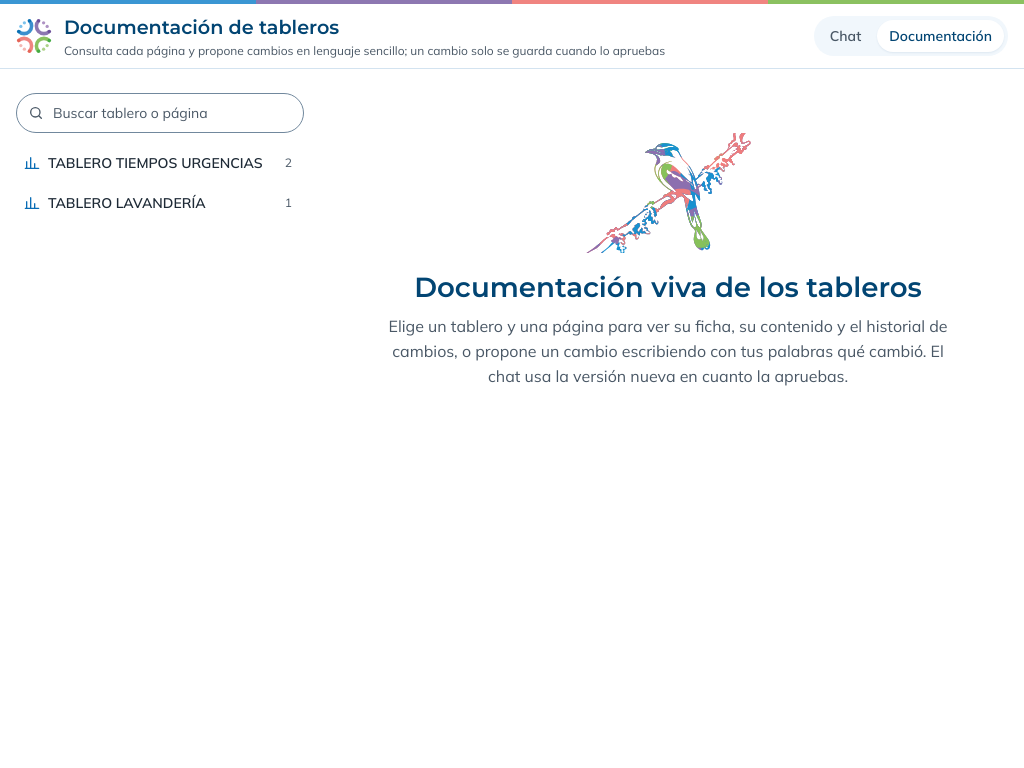
it: Documentación: explorar › muestra el documento: formato, ficha, cuerpo, historial y el .md guardado
What coordinates should you click on to do the following:
click the button "TABLERO TIEMPOS URGENCIAS 2"
I would click on:
 (158, 163)
Its box is [16,145,300,181].
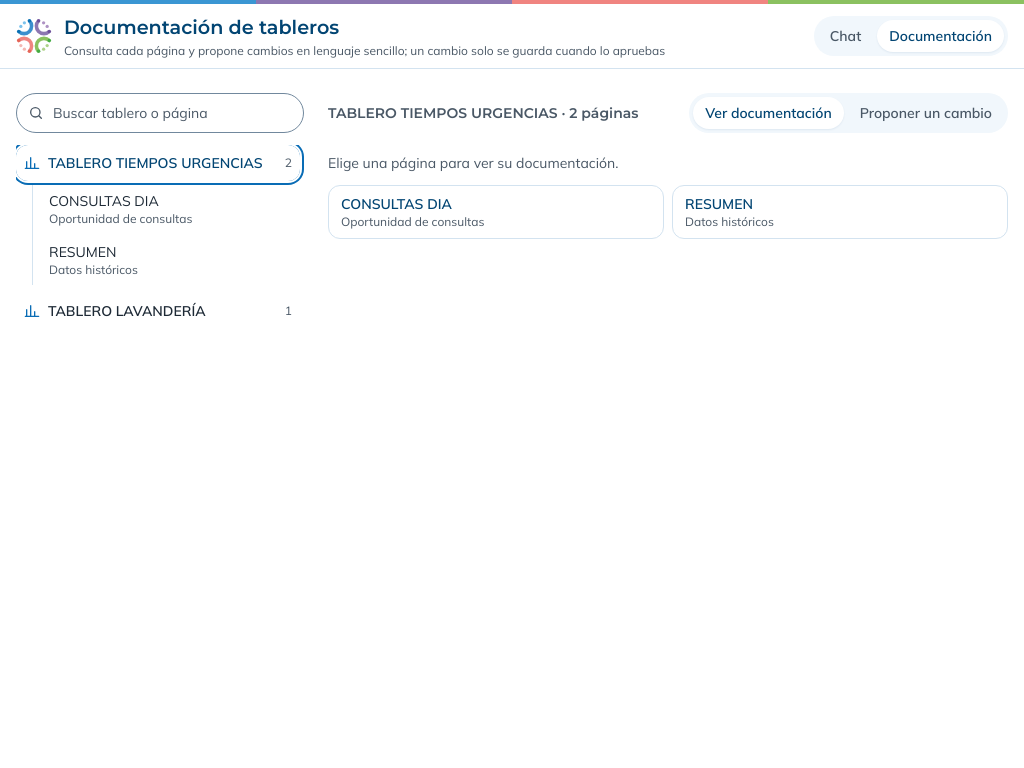
What coordinates should you click on to do the following:
click the 1st button "CONSULTAS DIA Oportunidad de consultas"
I would click on:
 (170, 209)
Its box is [41,185,300,233].
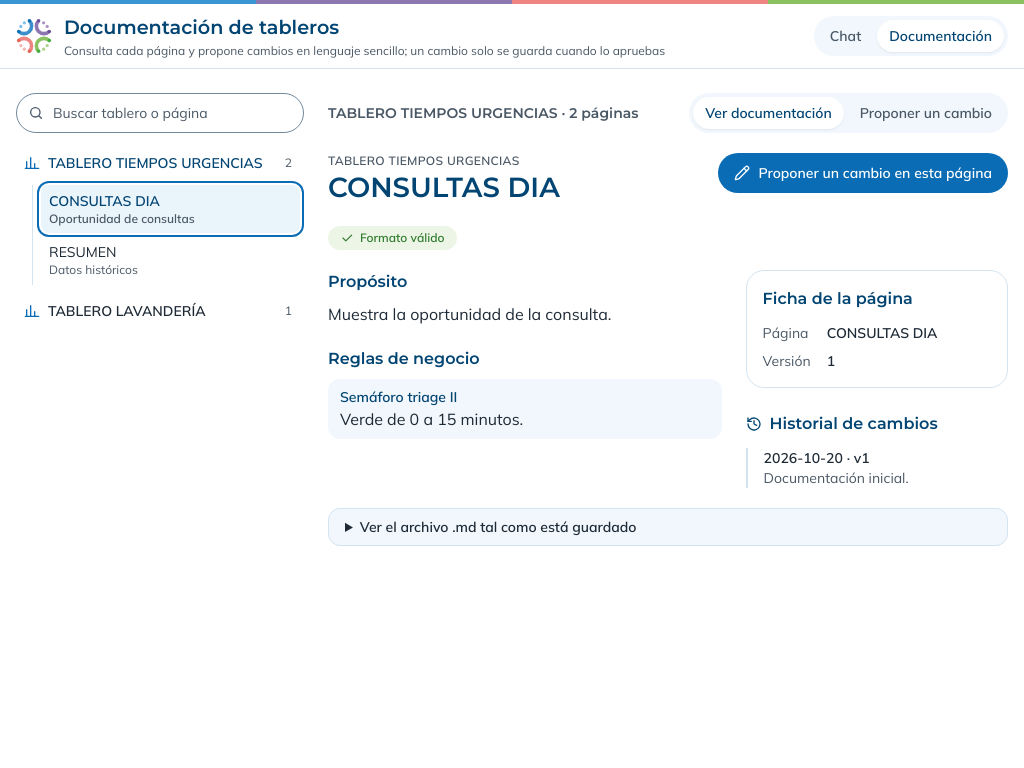
Result: the heading "CONSULTAS DIA" is shown at [328,170,560,204]
Result: the text "Formato válido" is shown at [328,226,456,250]
Result: the heading "Ficha de la página" is shown at [763,289,913,308]
